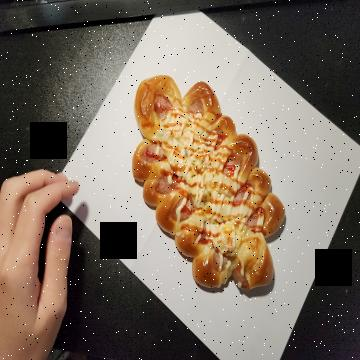pizza_bread: (132, 76, 286, 305)
